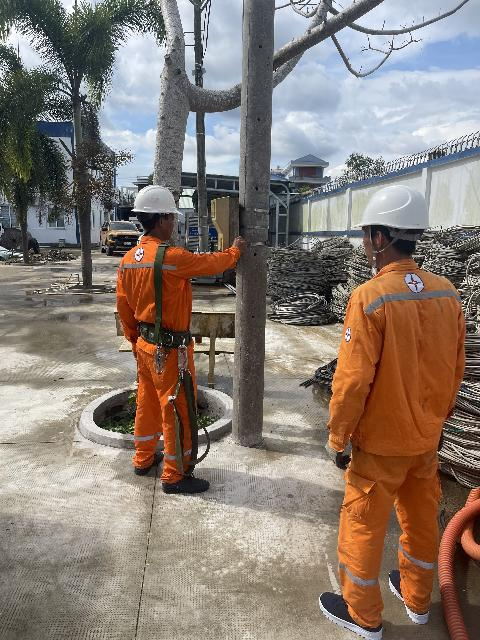gloves: (314, 433, 363, 474), (432, 416, 460, 459)
harness: (125, 321, 210, 354)
helmet: (338, 173, 445, 243), (111, 179, 193, 228)
shoes: (294, 579, 394, 640), (386, 559, 444, 640), (154, 459, 222, 495), (124, 447, 164, 476)
